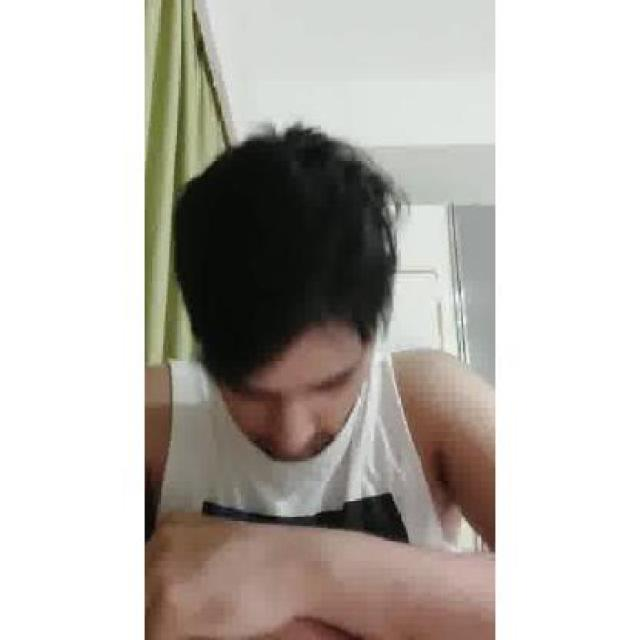inattentif: (178, 132, 382, 465)
